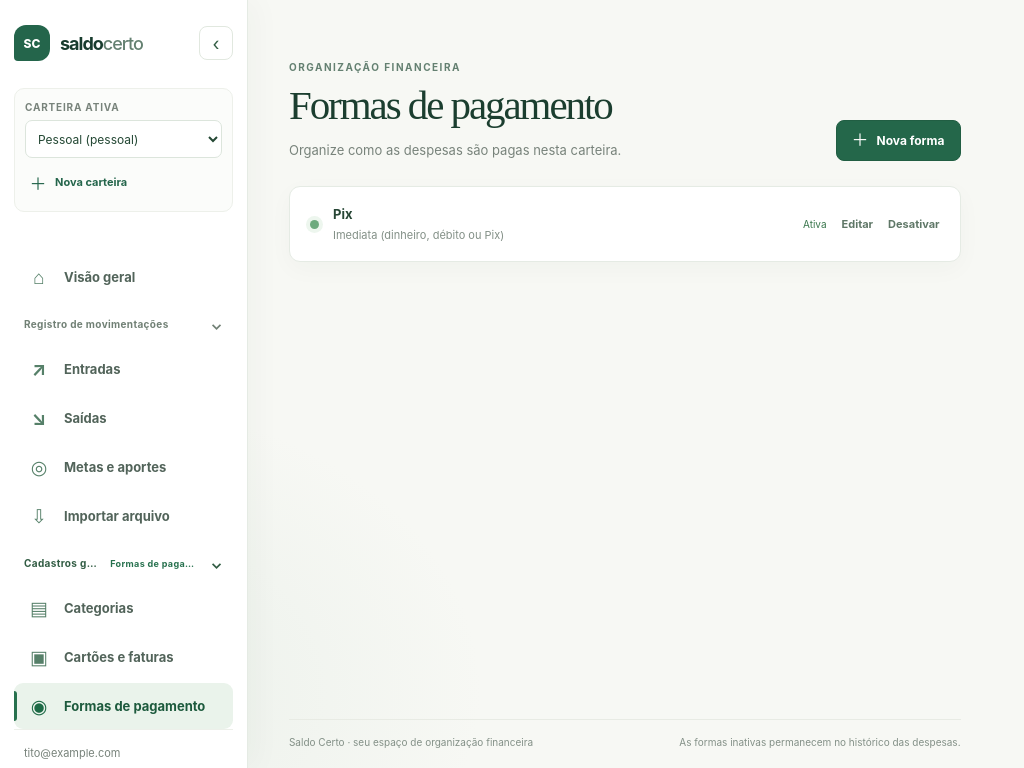
Scenario: PaymentMethodsPage › shows server validation errors when a duplicate name is rejected
The image size is (1024, 768).
Expected: the dropdown labelled "Carteira ativa" is shown, [25,120,222,158]
Click the button "＋ Nova forma" at (898, 141), box [836,120,961,161]
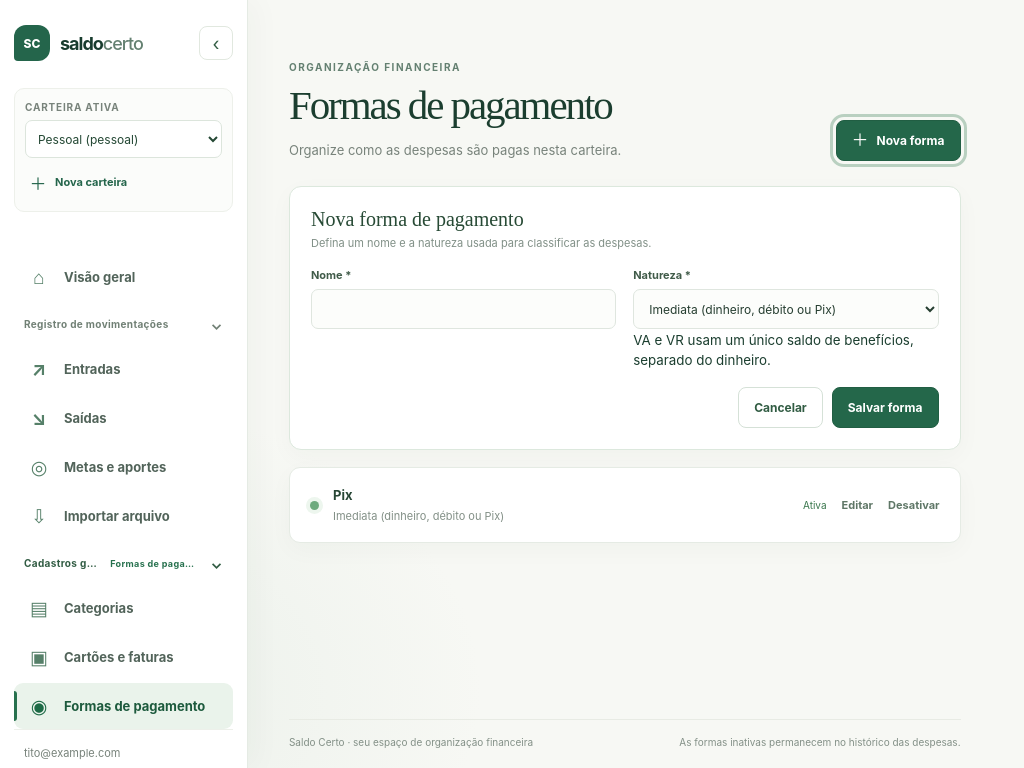
Type "Pix" into the field labelled "Nome *" at (464, 309), box [311,289,616,329]
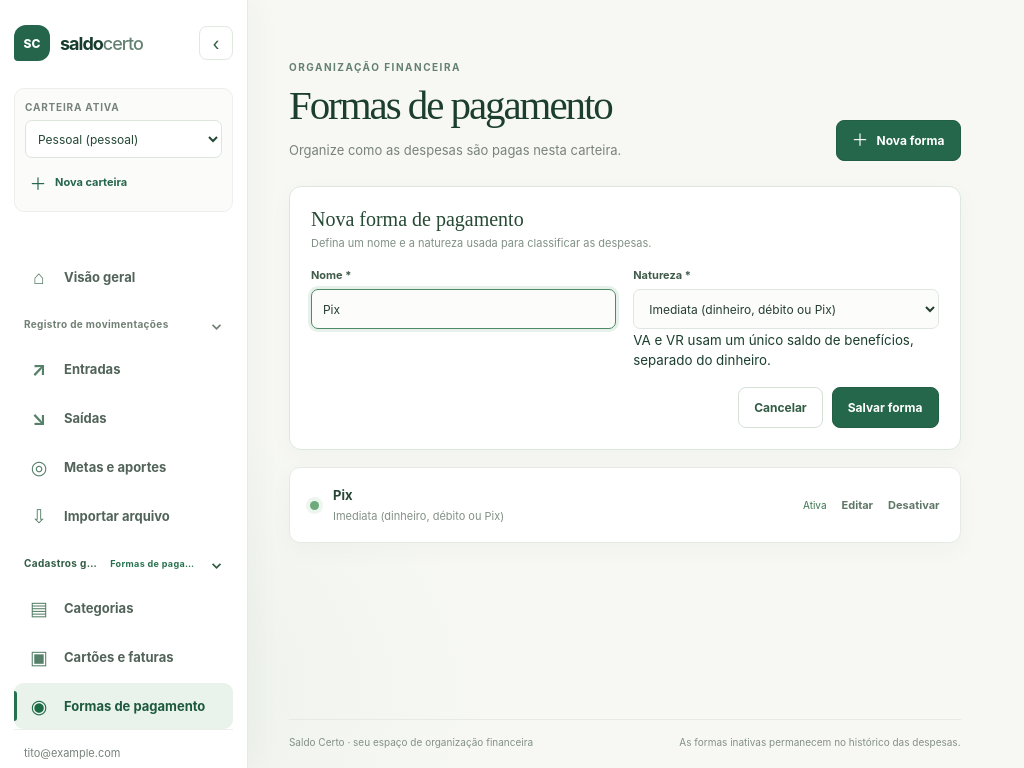
Click the button "Salvar forma" at (885, 408), box [832,387,939,428]
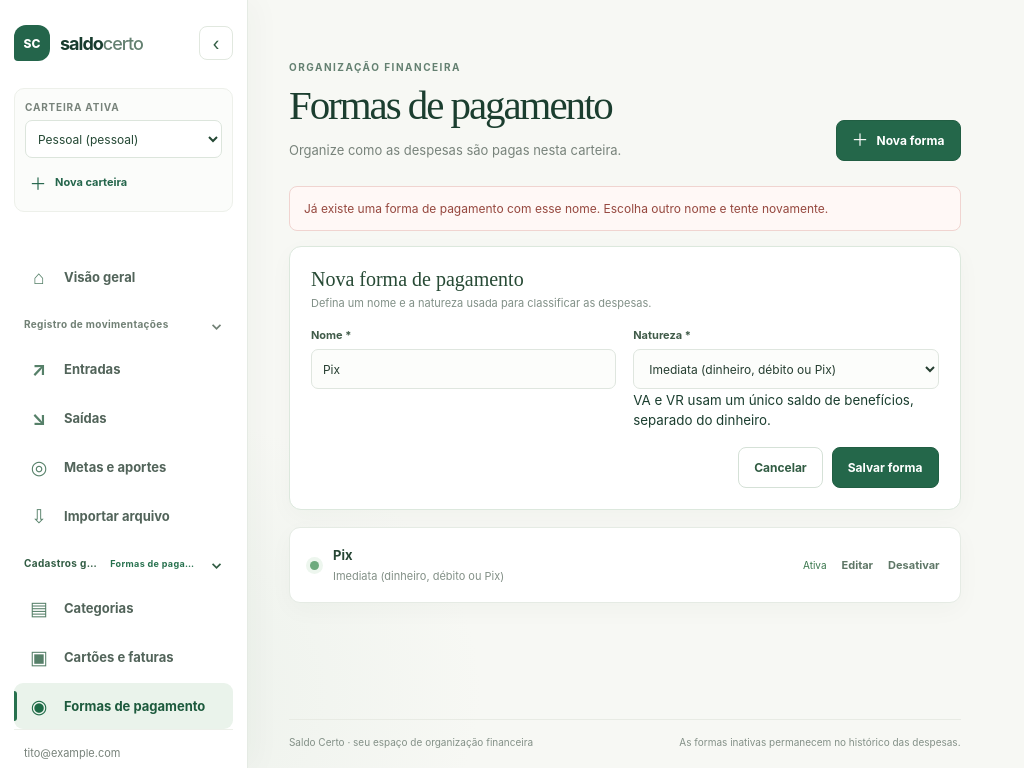
Expected: the message shows "Já existe uma forma de pagamento com esse nome.", [304,201,828,216]
